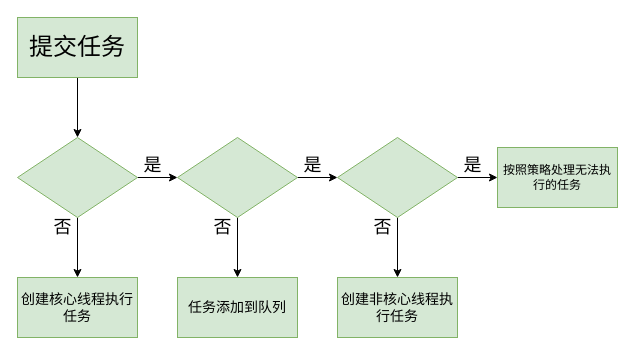
This 635x355 diagram has some shape labels left out. Here are the shapes that lost their labels. From the top down, the centre of each, then its label:
At (77,177): "核心线程池是否已满？".
At (237,177): "队列是否已满？".
At (397,177): "线程池是否已满？".
